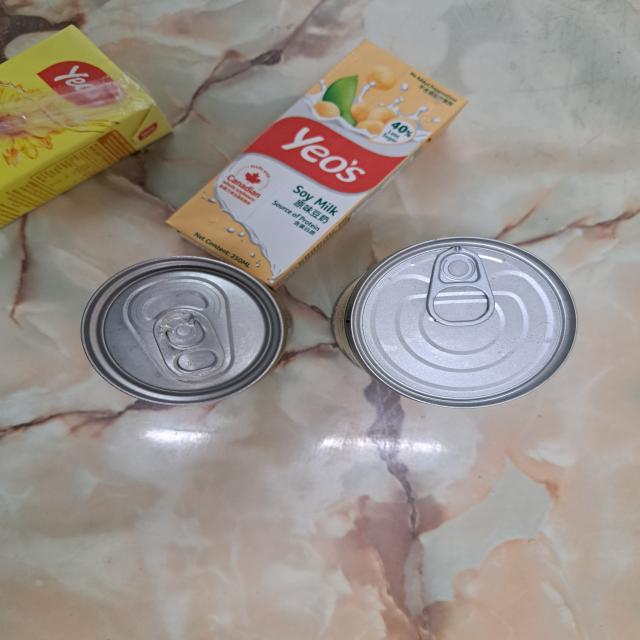can: (326, 238, 579, 408), (82, 252, 289, 406)
drink carton: (167, 41, 469, 287), (0, 21, 172, 230)
pop tab: (154, 308, 233, 383), (427, 247, 496, 326)
